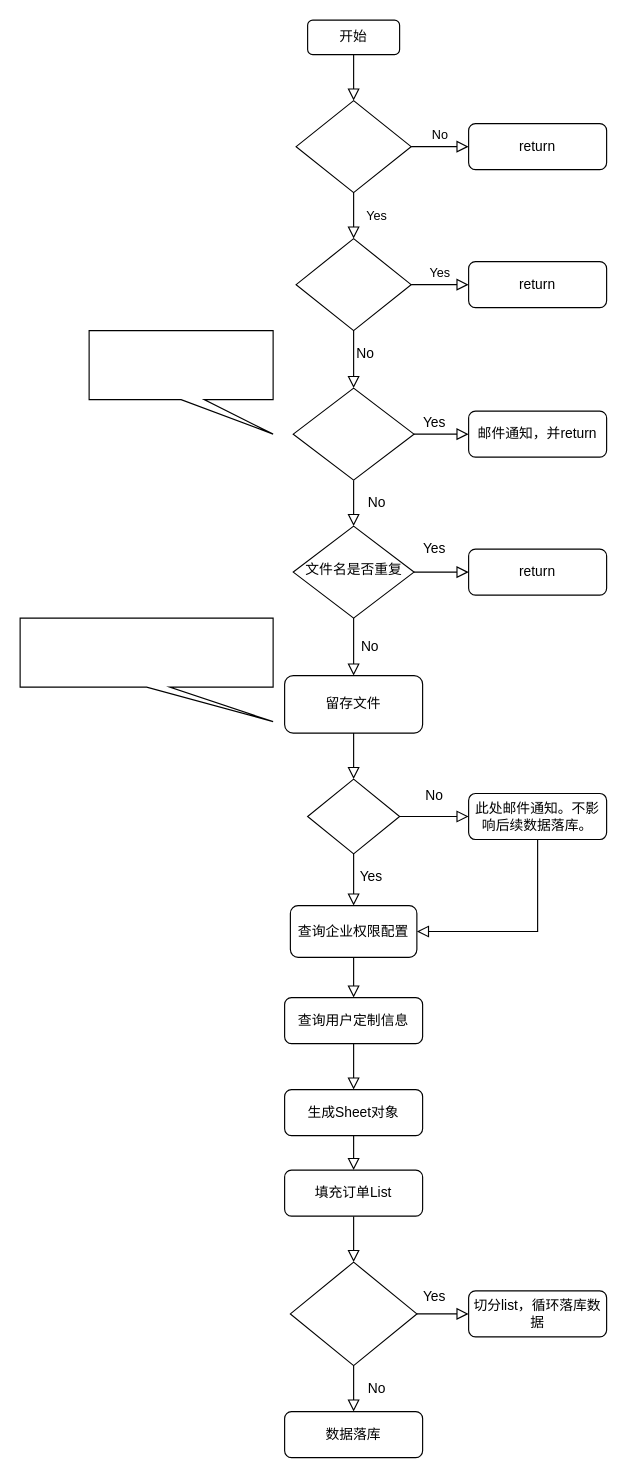
The diagram is 627 pixels wide and 1478 high, and some of its shapes have lost their labels. The shapes that lost their labels are listed below. From the top down, each one's box as (x1, y1, x2, y2) in pixels, then its label:
(295, 99, 411, 193): 参数校验是否通过
(295, 237, 411, 331): 单个文件大小是否超过100KB
(88, 329, 273, 434): 全局限额：批量背调文件上传每日总size不得超过100MB，通过redis全局监控
(292, 387, 414, 480): 当日上传文件是否达到总限额
(19, 617, 273, 722): 目录为/data/bgcheck/batchFile/memberId/ operatorId/fileName
(306, 778, 400, 854): 是否成功
(289, 1261, 417, 1366): 数量是否超过最大行数
